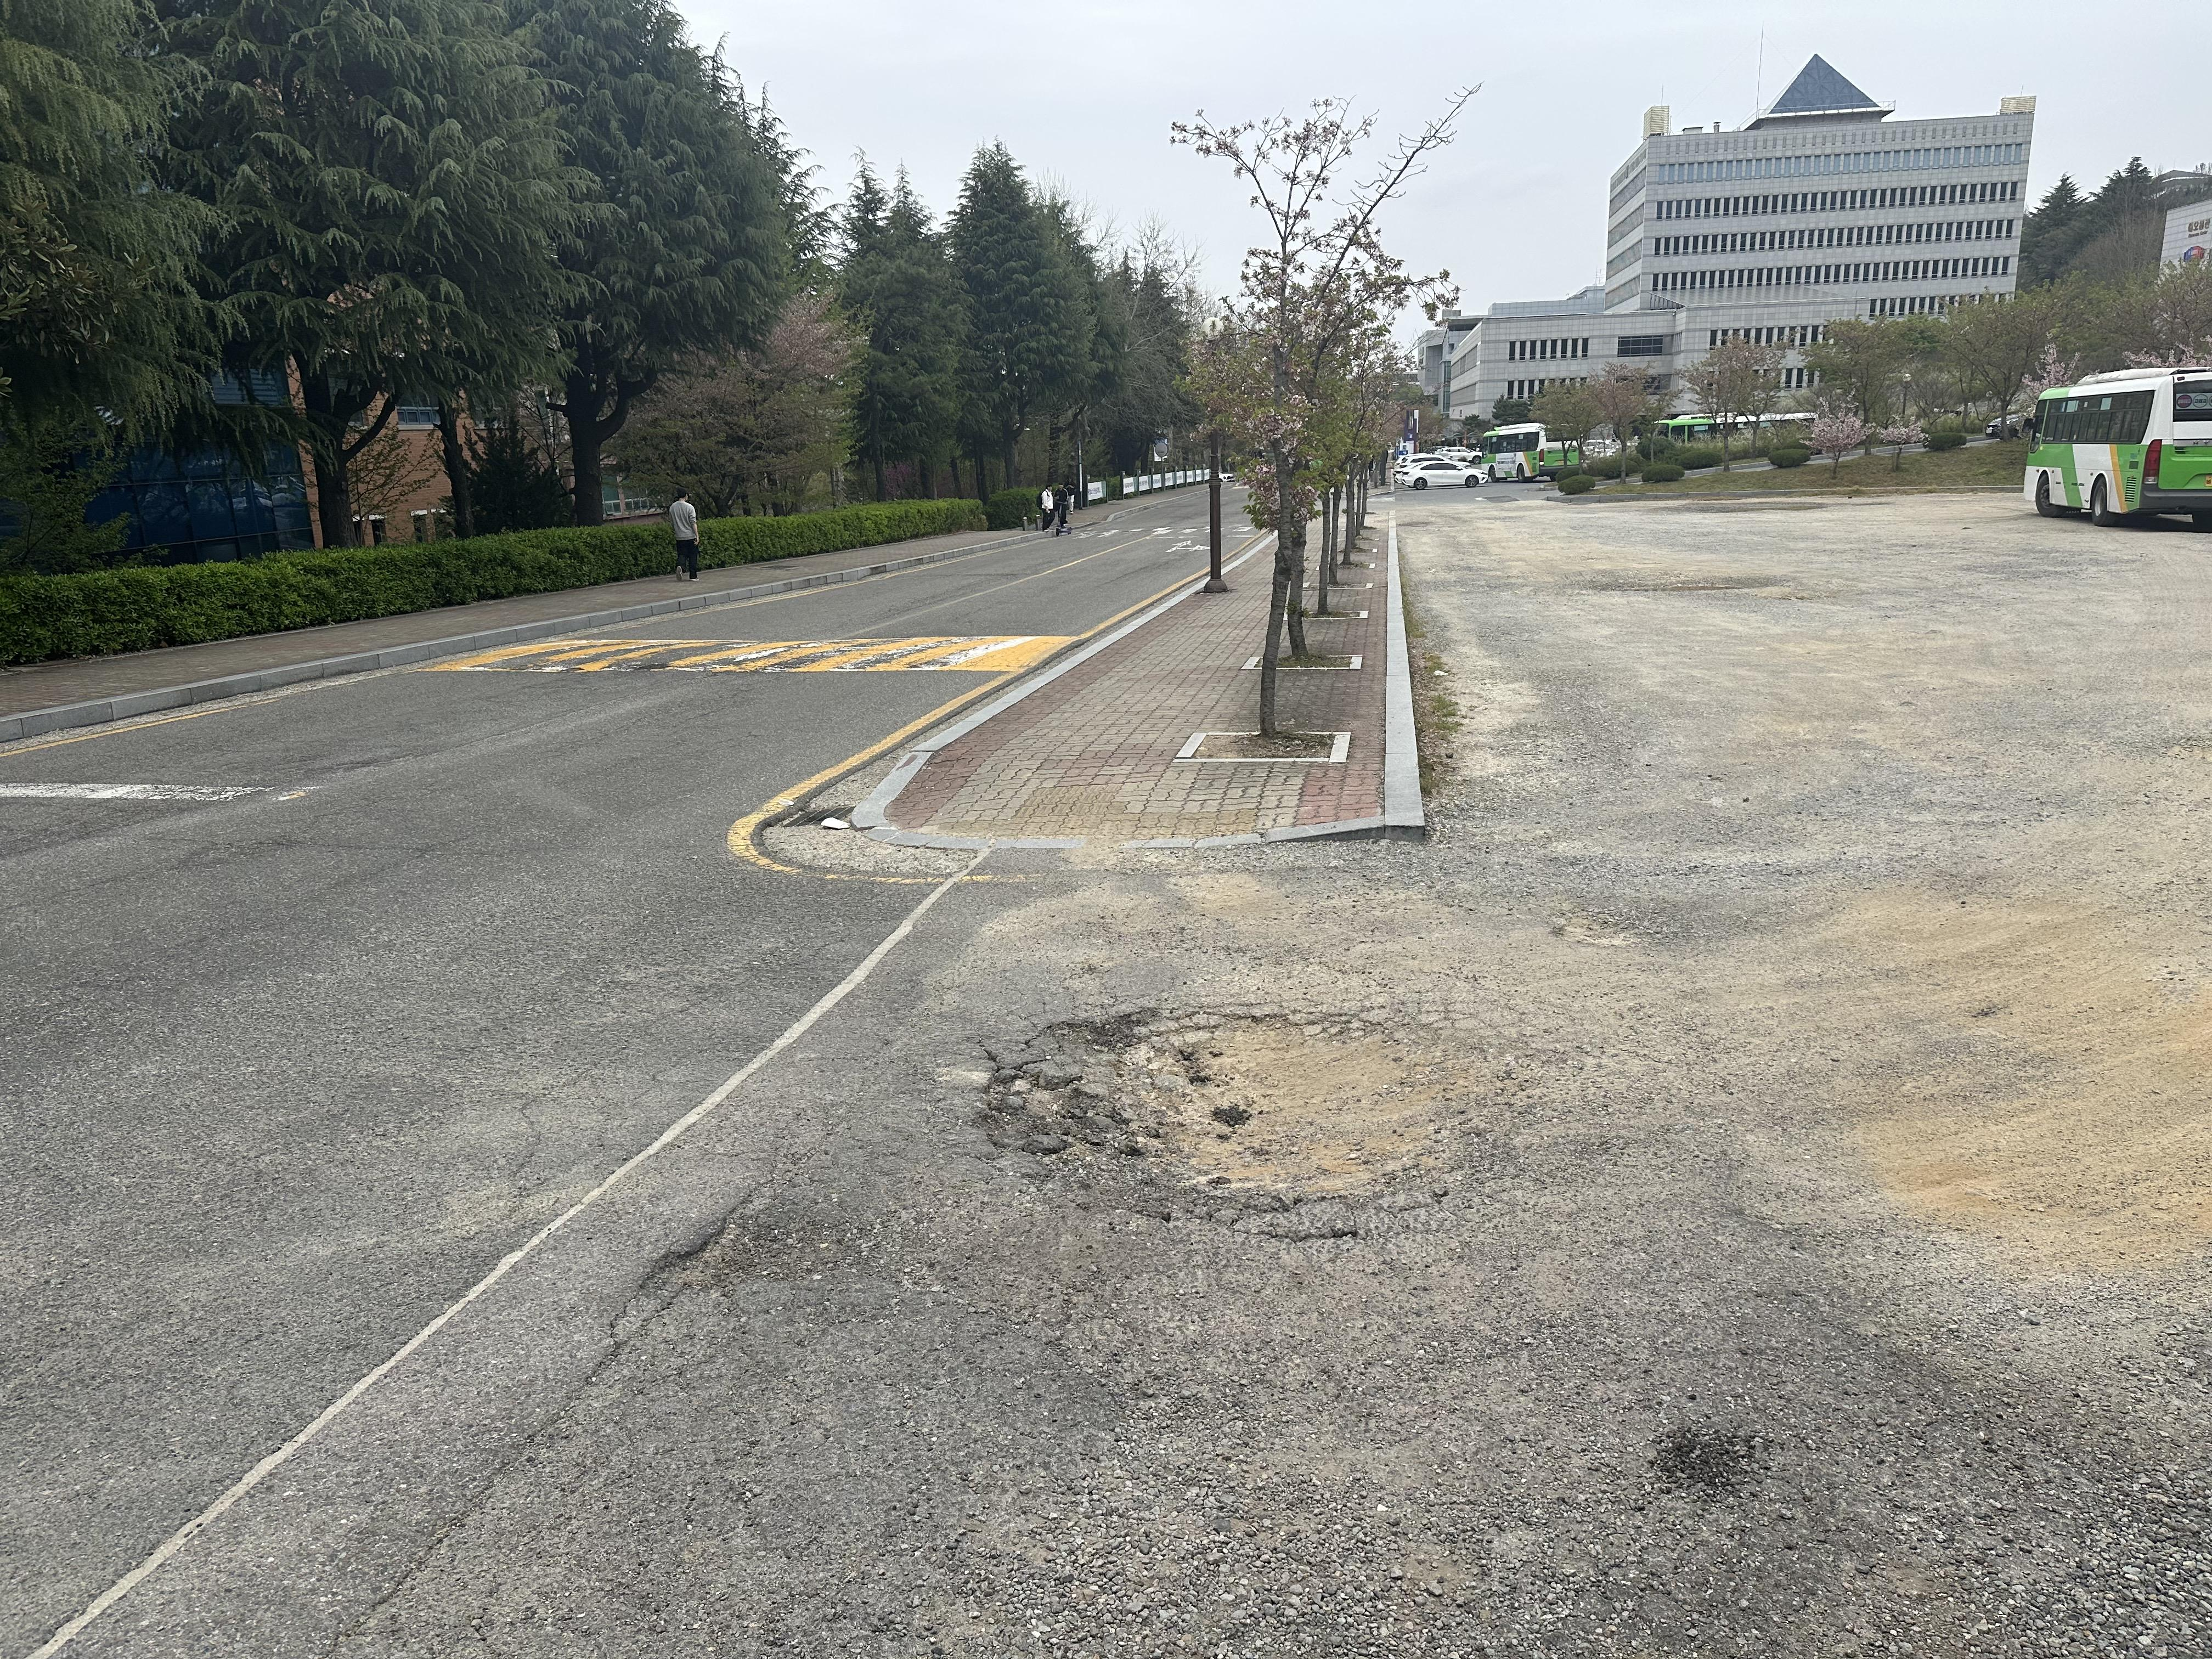pothole: (977, 935, 1553, 1243)
